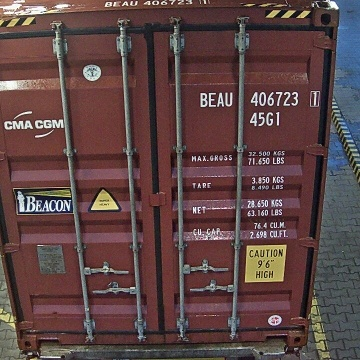serial_id: (200, 91, 320, 106)
